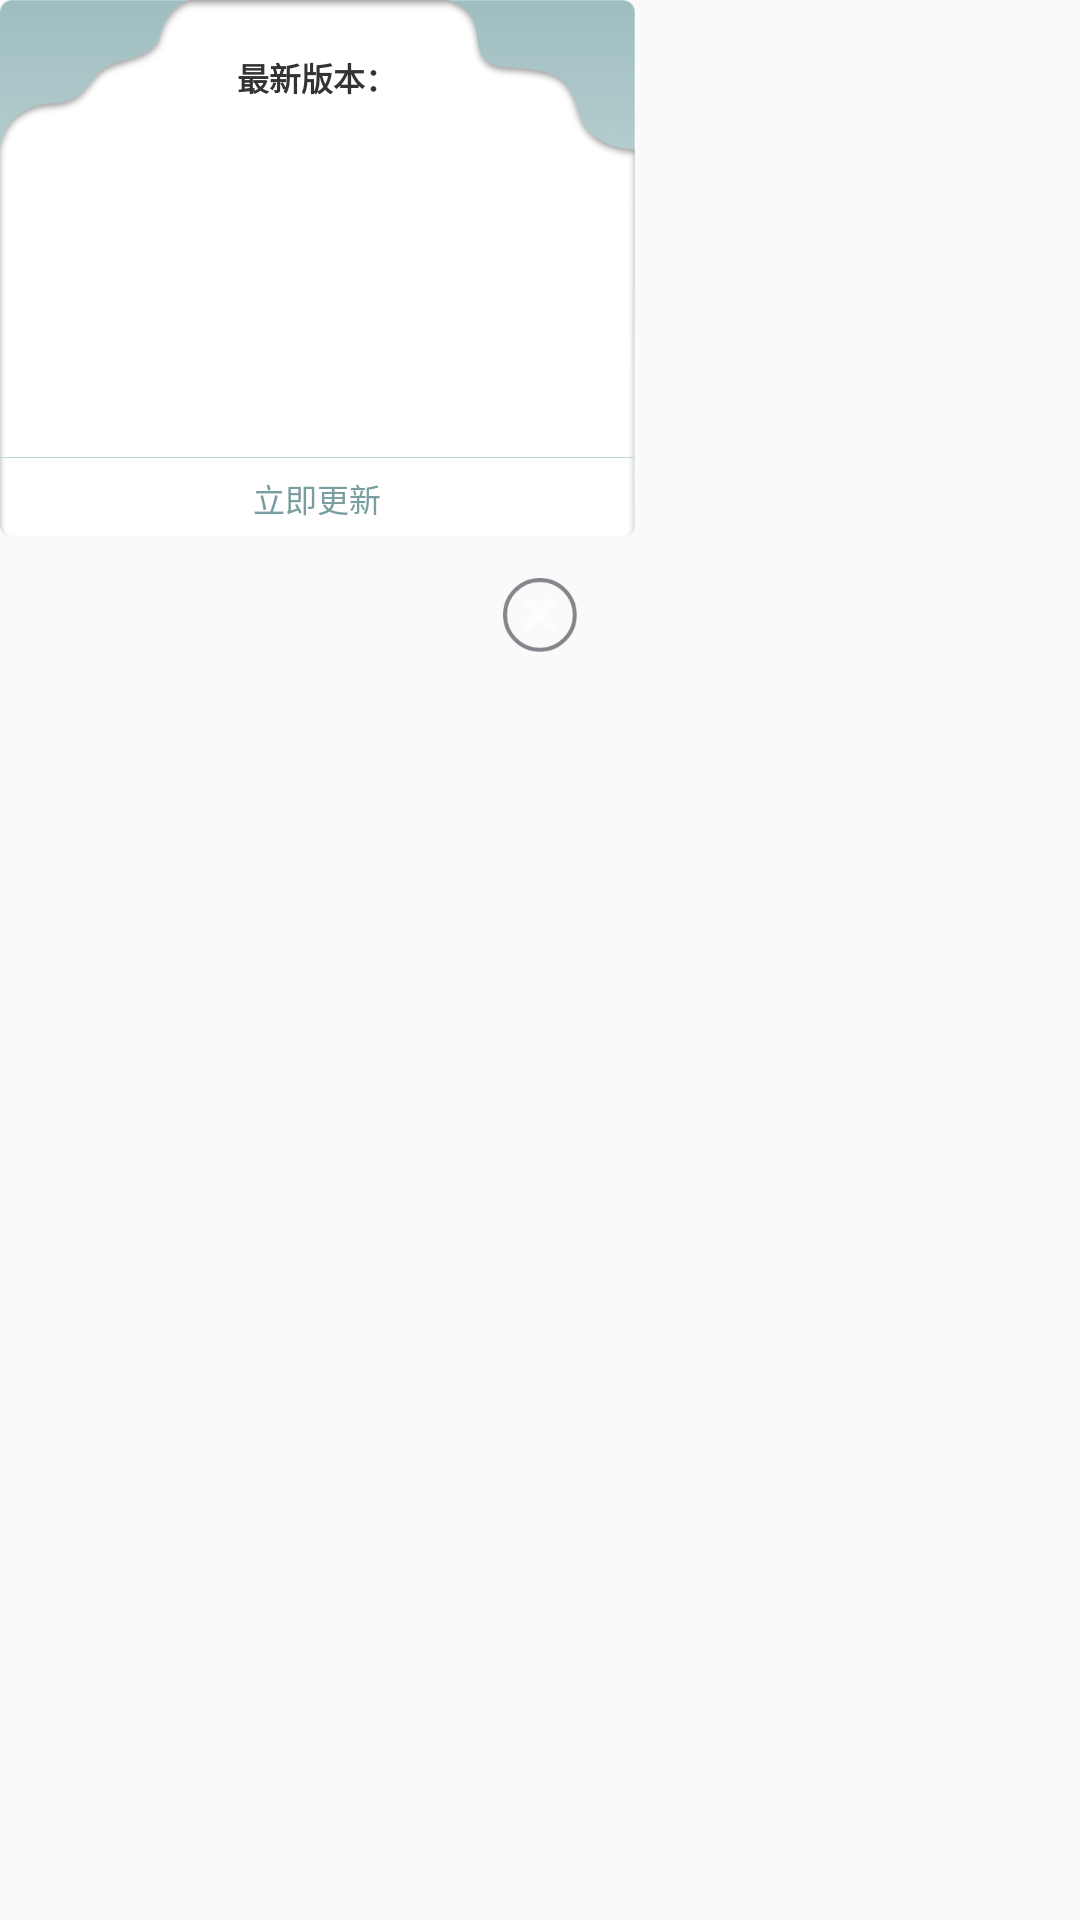

Locate icon controls on the screen. Image size 1080 × 1920, boxes as (x1, y1, x2, y2).
close: (503, 578, 577, 652)
